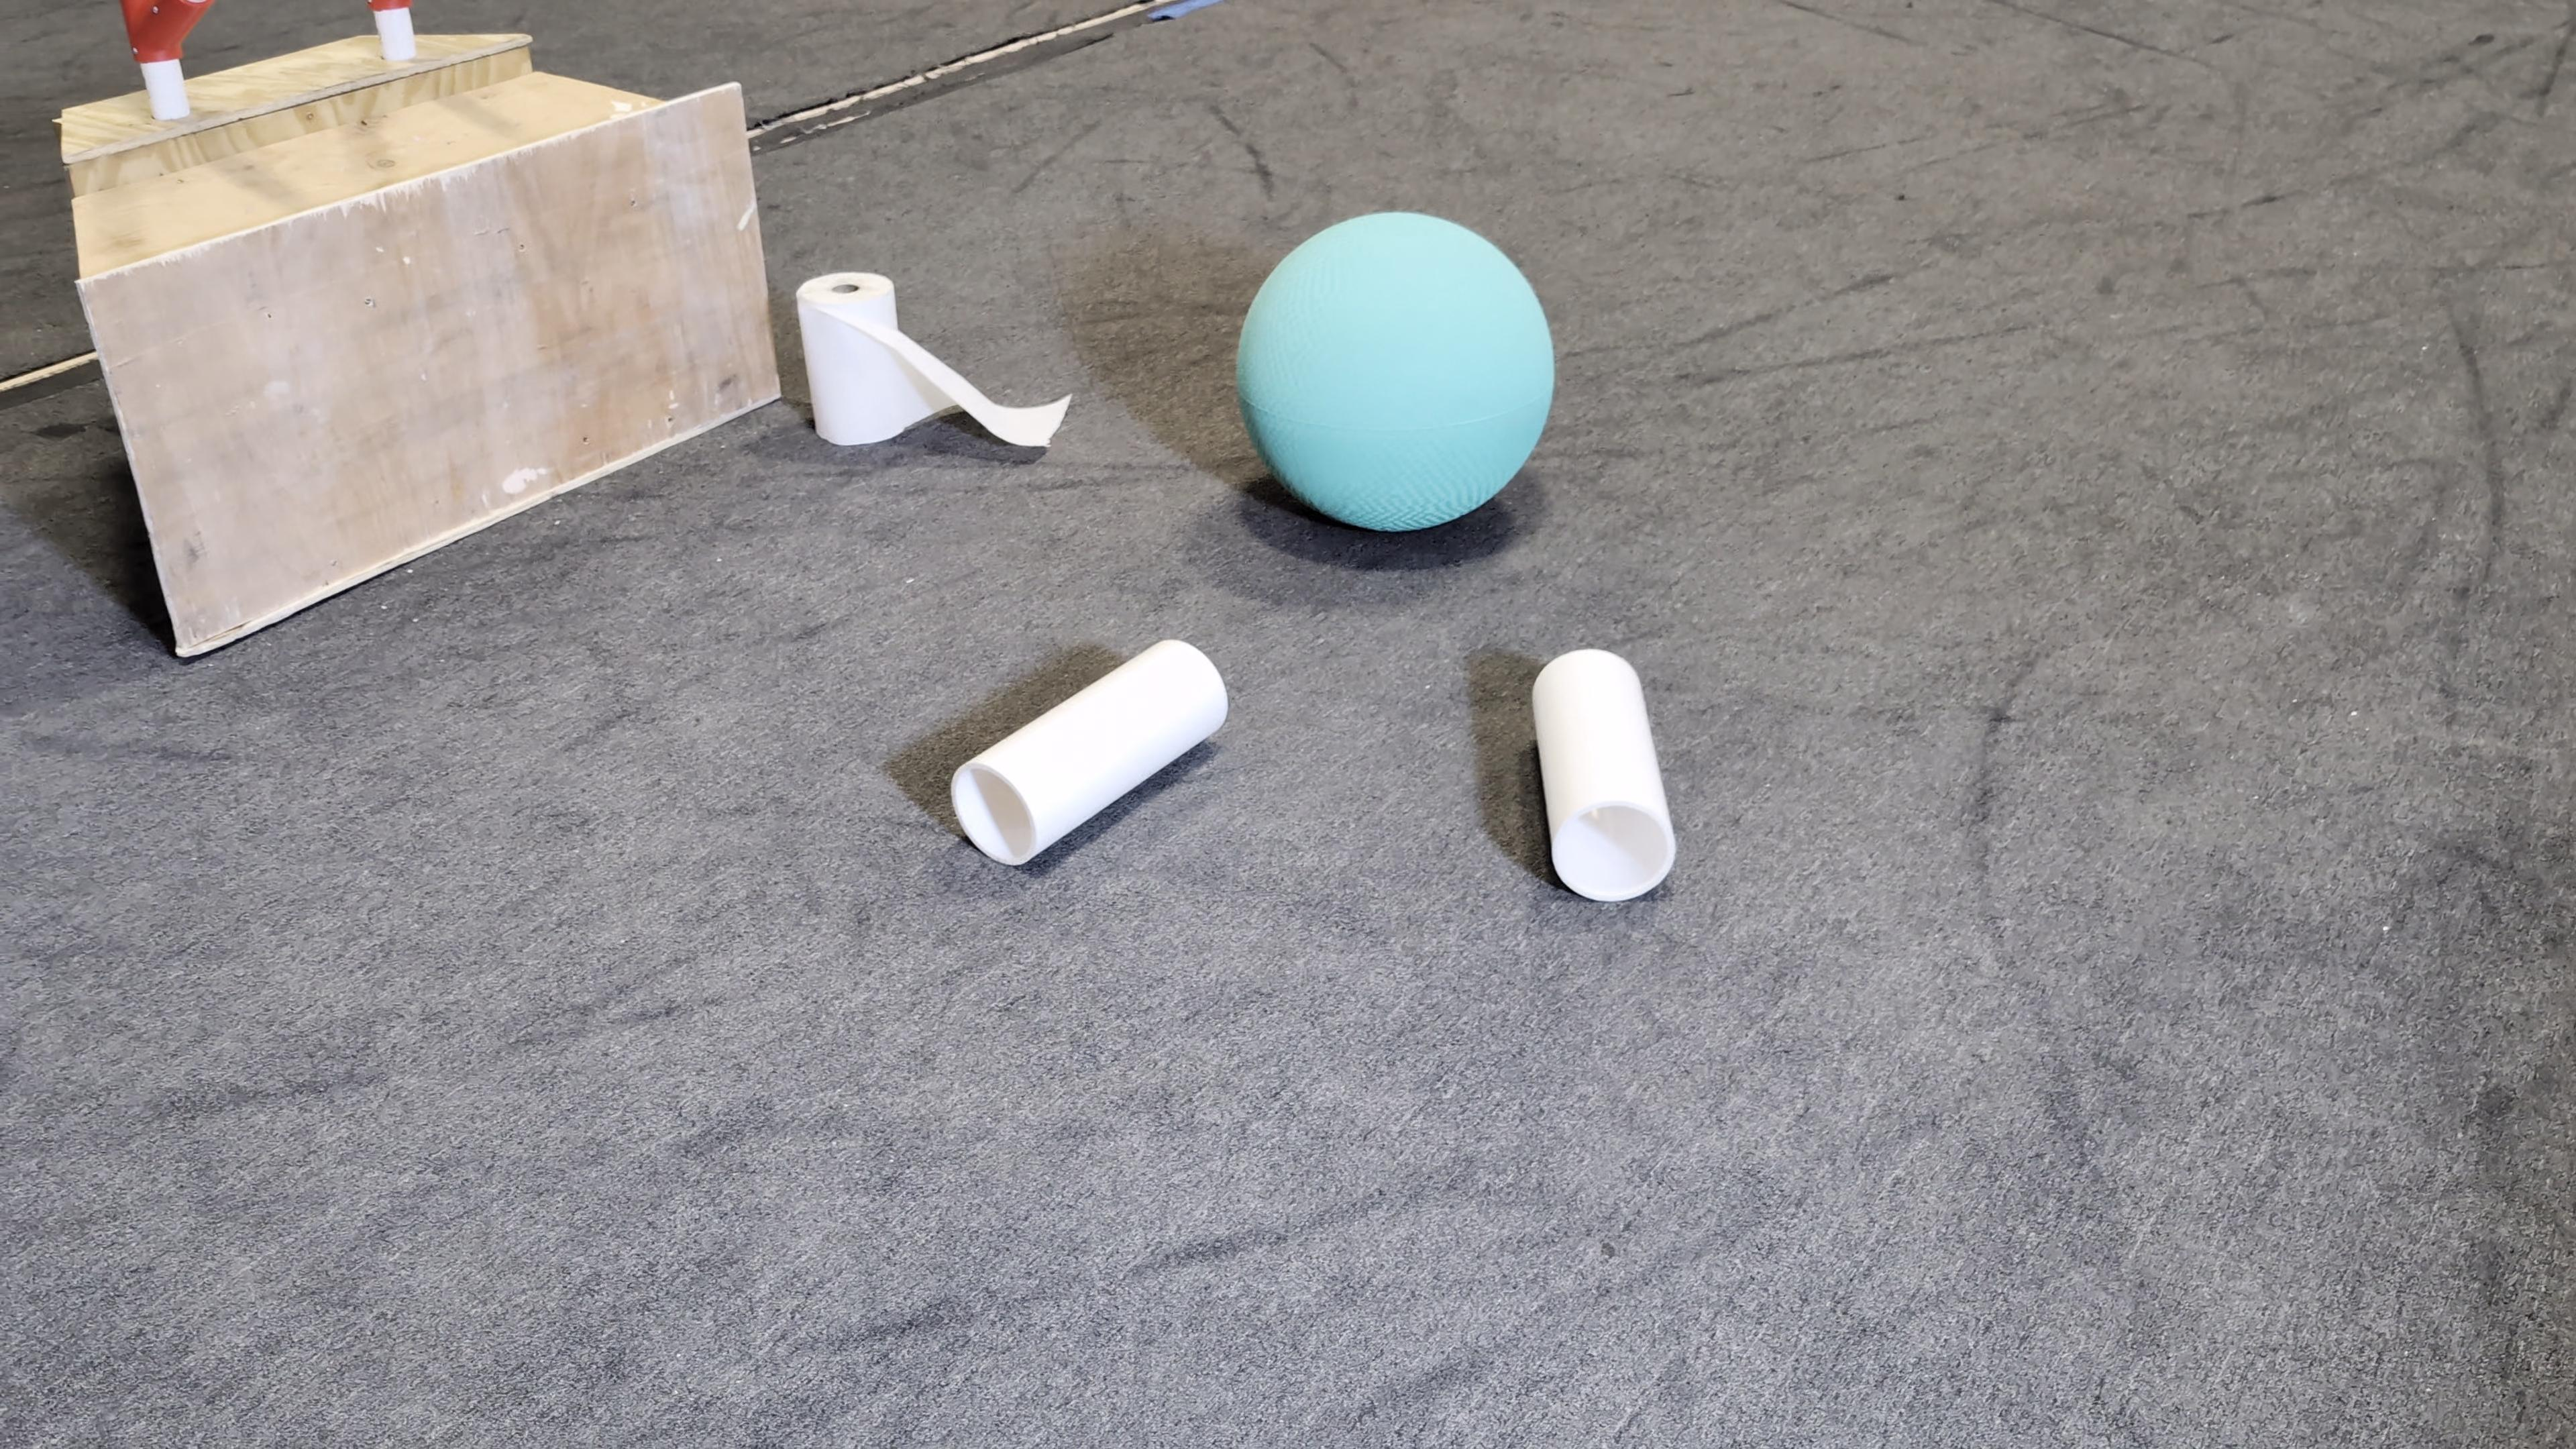algae: (1237, 209, 1555, 533)
coral: (950, 635, 1230, 863), (1529, 648, 1681, 904)
